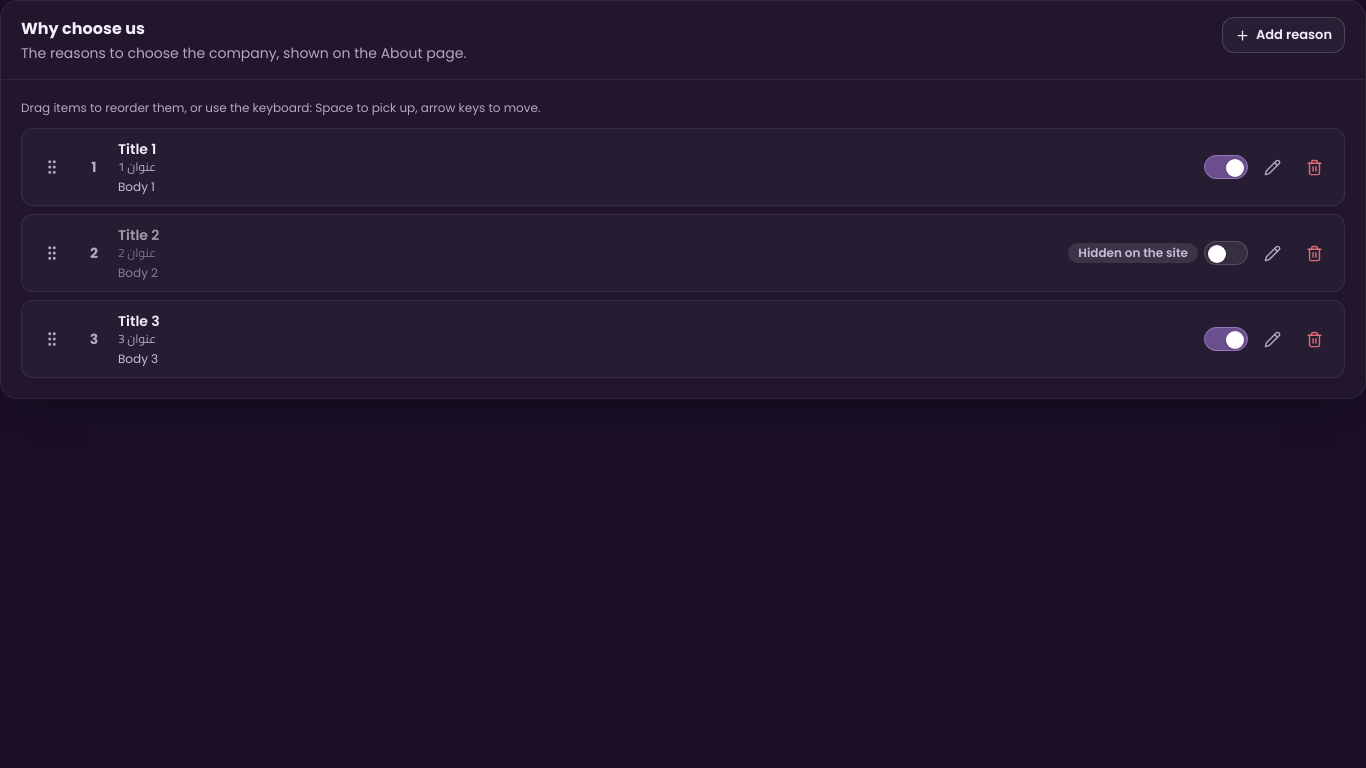
Test: CollectionManager — actions › active toggle › sends only is_active and shows the saved toast
The image size is (1366, 768).
Check: the text "Title 1" is shown, box [118,139,156,159]
Click the switch named "Active: Title 1" at (1226,167), box [1204,155,1248,179]
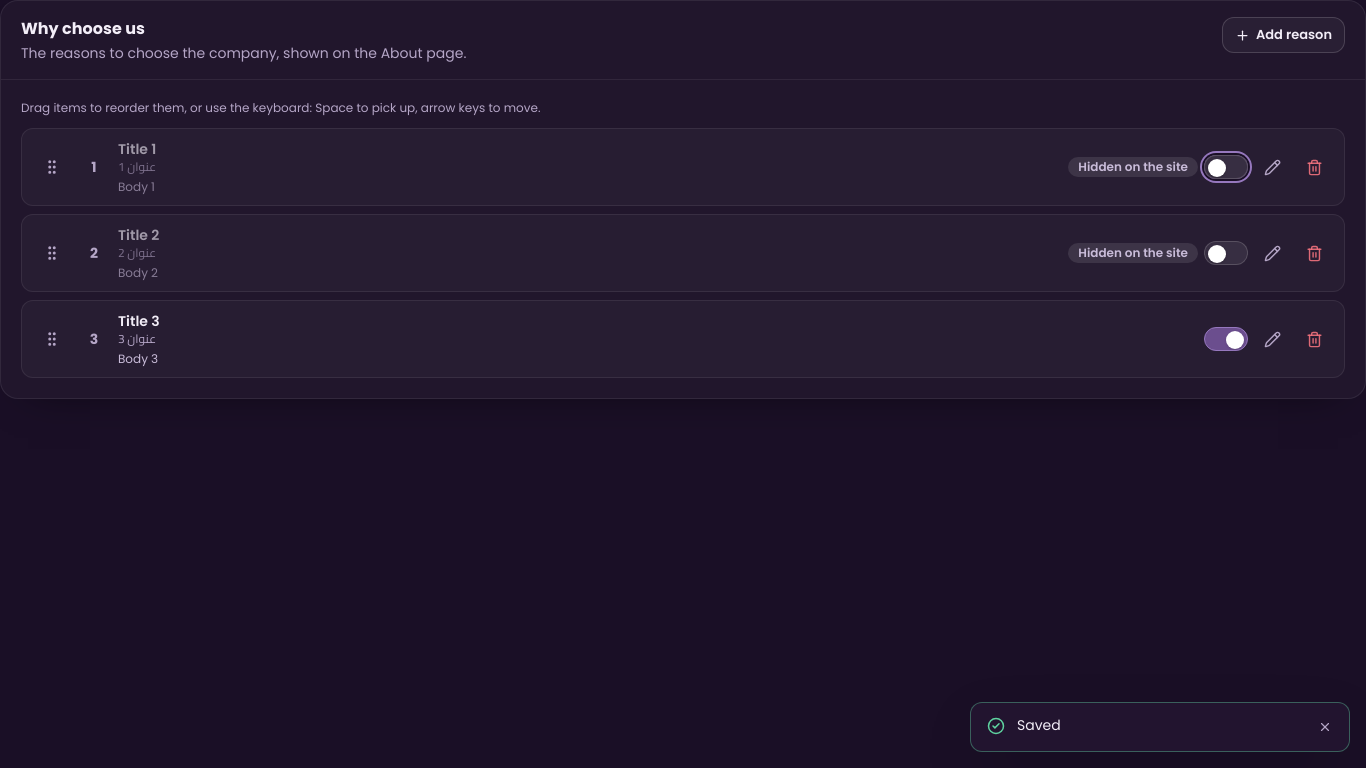
Check: the text "Saved" is shown, box [1017,715,1061,735]
